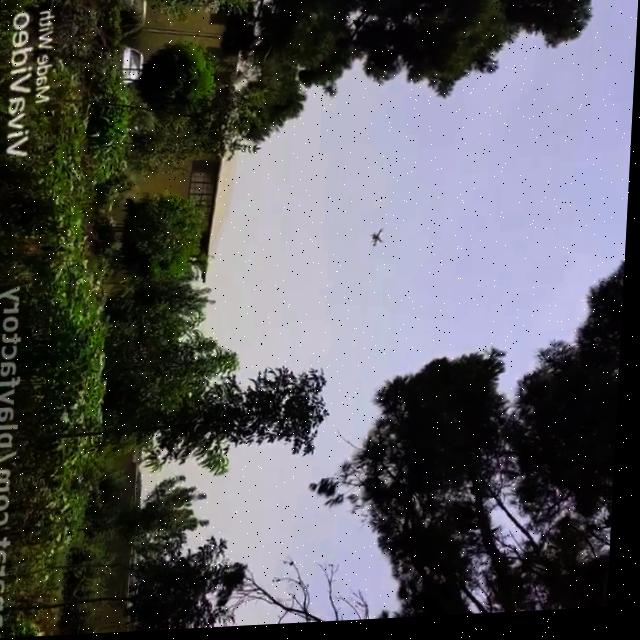drone: (371, 231, 390, 253)
